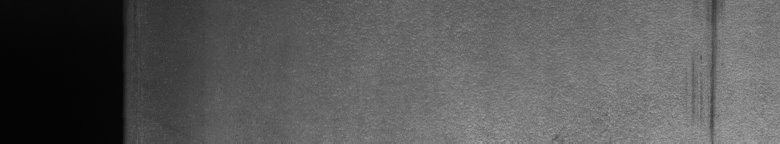hd: (710, 4, 716, 135)
